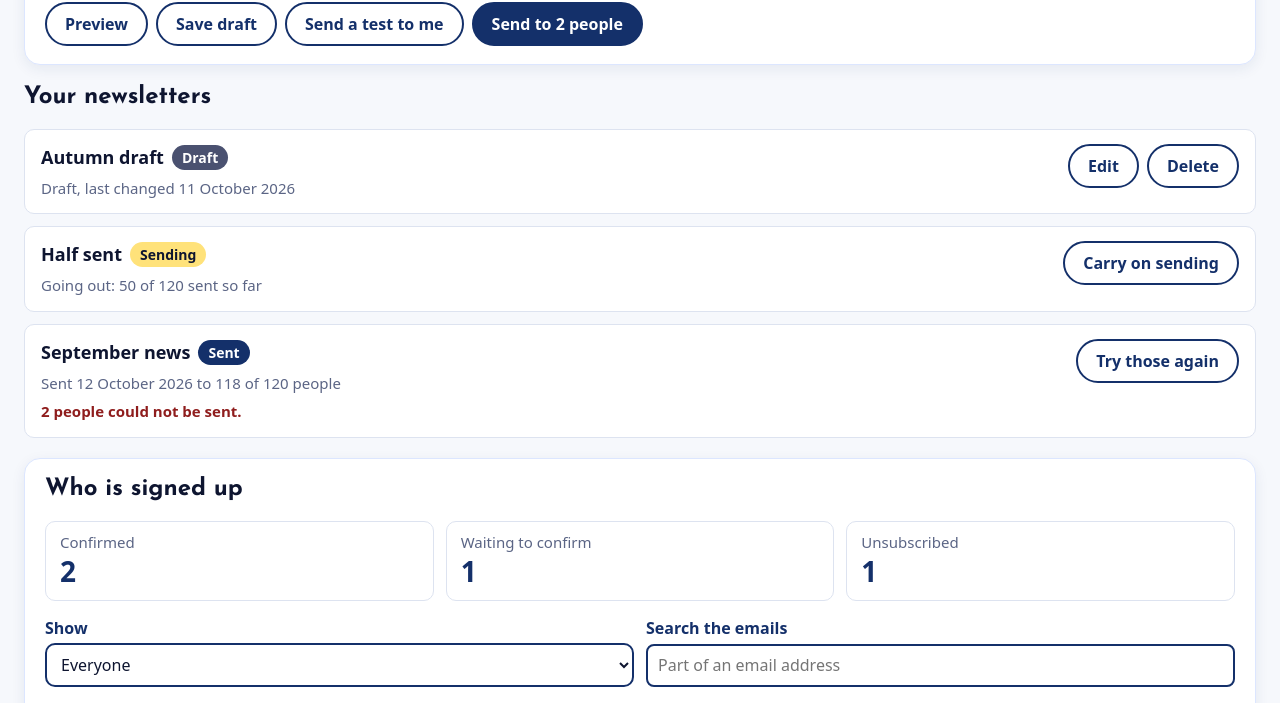
sending for real › puts the ones that failed back in the queue and sends them again
(page scrolled)
What coordinates should you click on to do the following:
click the button with aria-label "Try again to send September news to the 2 it missed"
I would click on:
 (1158, 361)
Its box is [1076, 339, 1239, 383].
(page scrolled)
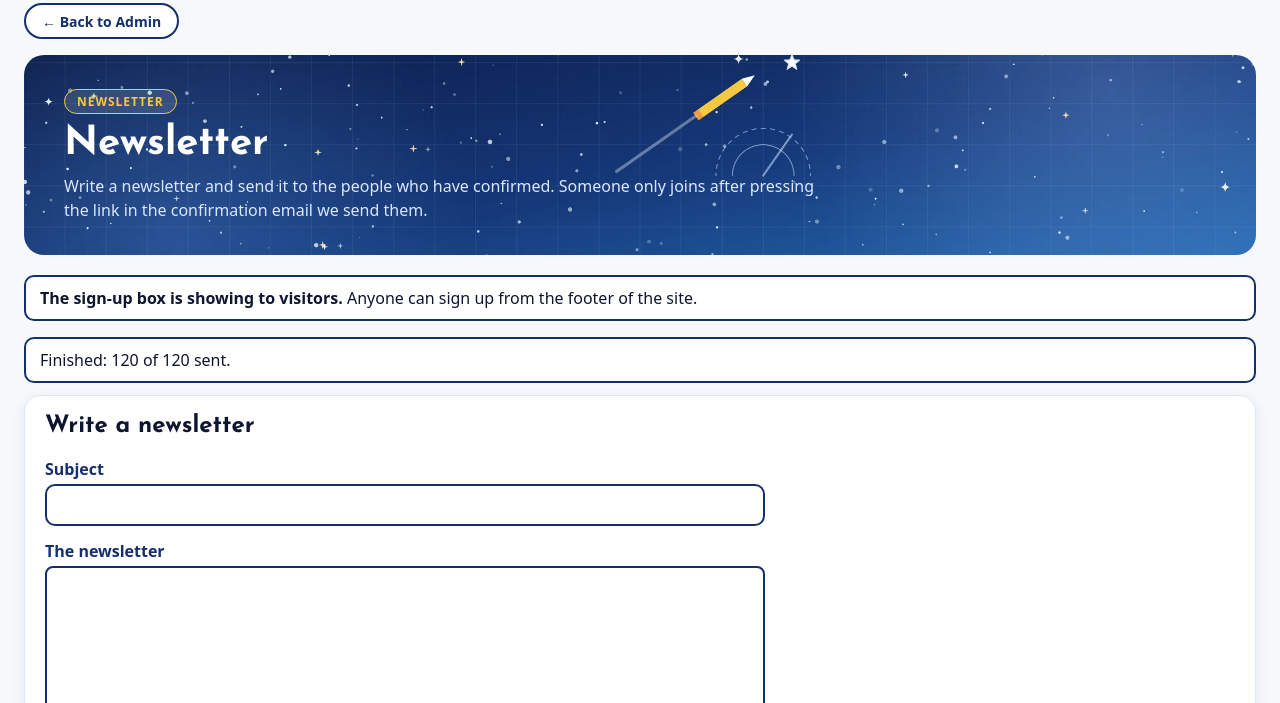
Expected: the text "Finished: 120 of 120 sent." is shown, [24, 337, 1256, 383]
